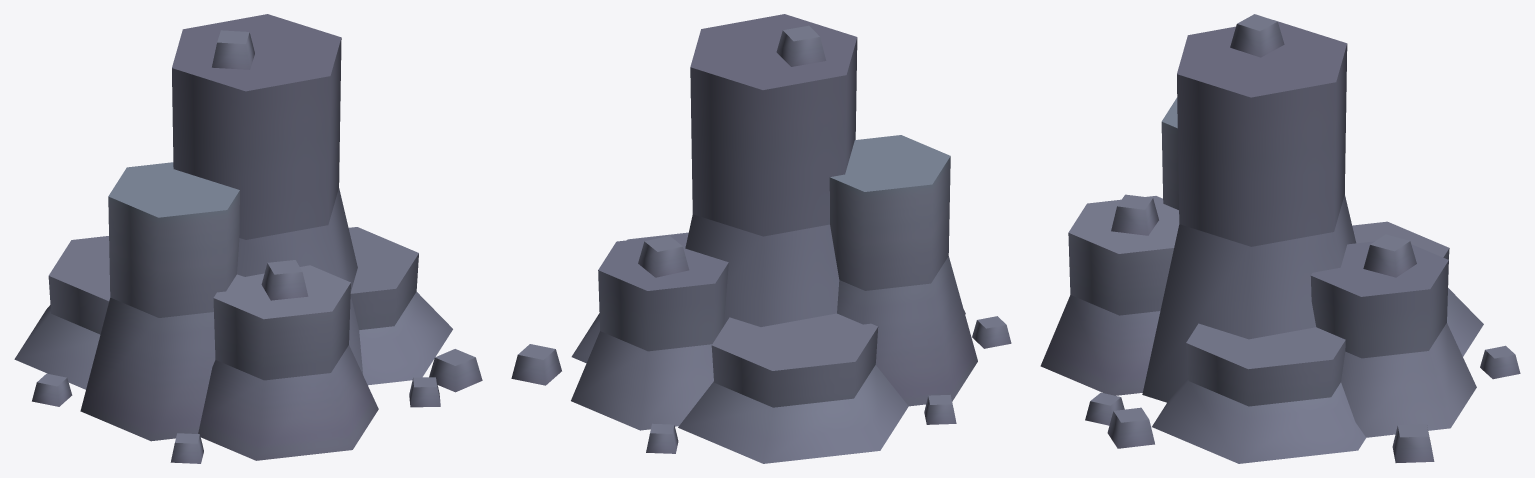
The model's file is rocks-b.glb.
3 renders of one model, left to right at view 1: azimuth 30°, elevation 25°; view 2: azimuth 150°, elevation 25°; view 3: azimuth 270°, elevation 25°, orthographic. The views are drawn at different scales.
Visible parts, largest first — view 1: rocks-b; view 2: rocks-b; view 3: rocks-b.
Part boxes in pixels (box(x1,y1,x2,y2)): rocks-b: box(14, 14, 482, 463); rocks-b: box(511, 14, 1011, 463); rocks-b: box(1040, 14, 1520, 463).
Bounding box in the file's own units: 4.44 × 3.65 × 4.7.
1 material, 1 textured.
